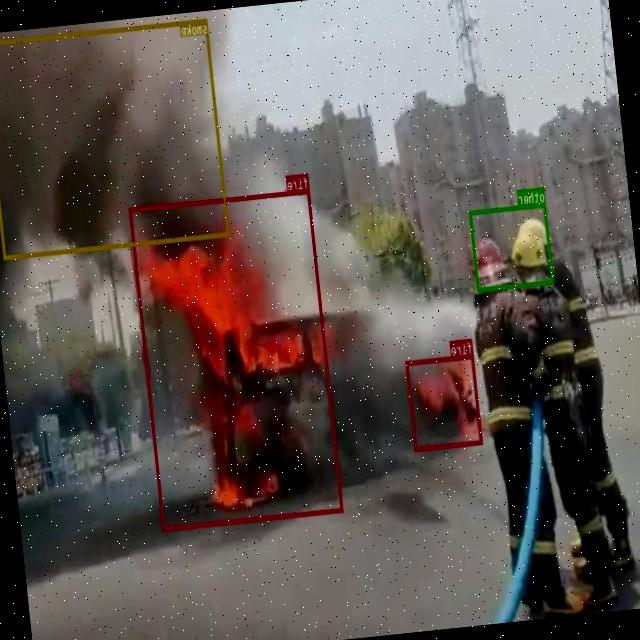fire: (129, 188, 343, 529), (406, 354, 482, 451)
smoke: (0, 17, 230, 258)
